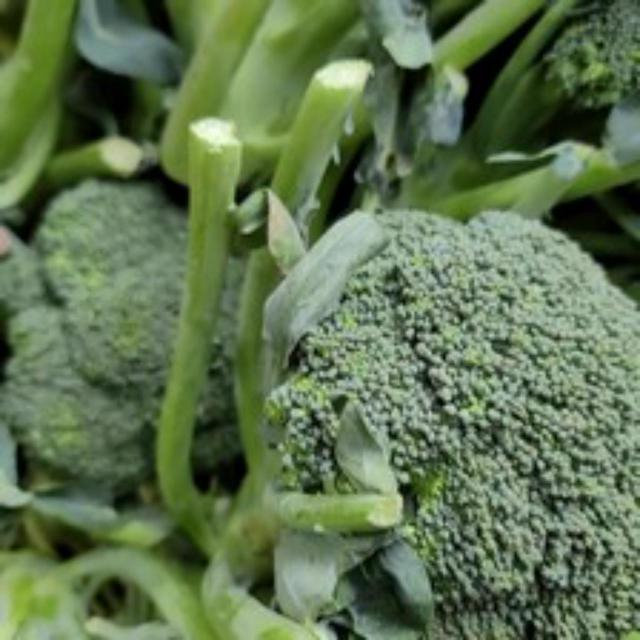broccoli: (277, 188, 637, 637)
